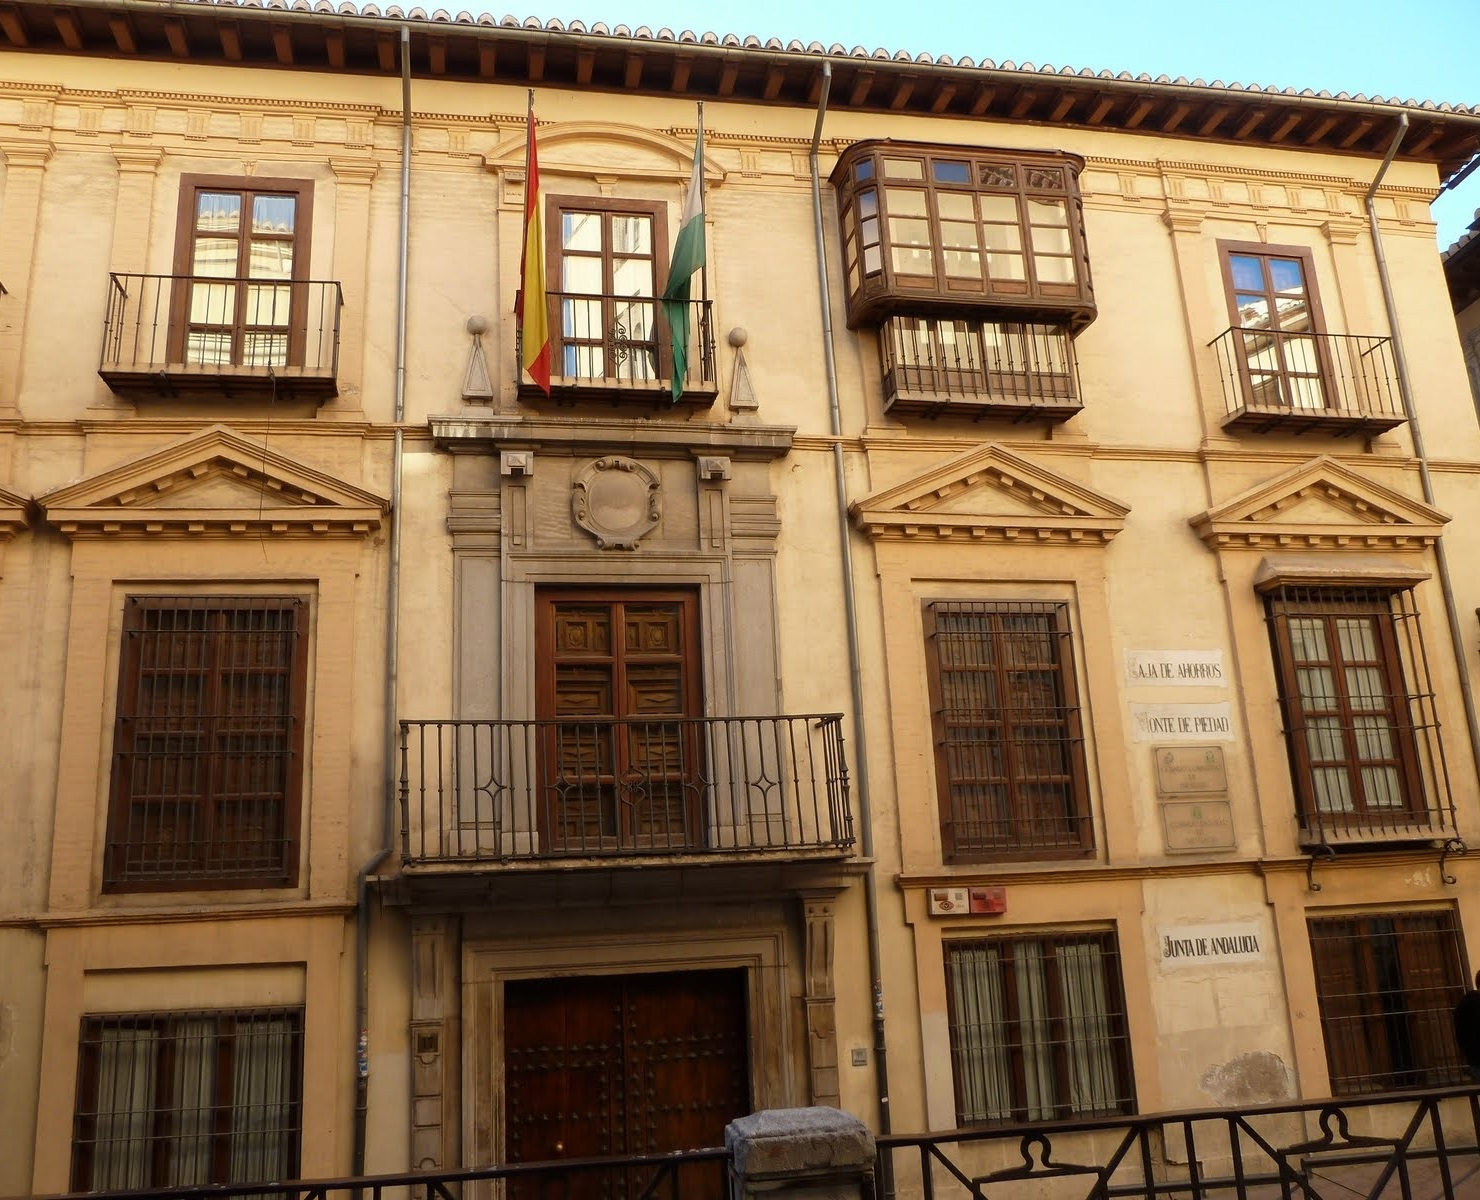fronton: (24, 422, 402, 542), (837, 447, 1138, 542), (1191, 452, 1460, 557)
fronton-curvo: (485, 118, 731, 193)
vano-adintelado: (60, 567, 332, 920), (514, 550, 732, 867), (901, 567, 1118, 868), (1247, 562, 1465, 845), (155, 170, 326, 378), (531, 185, 683, 388), (1213, 236, 1355, 414)
